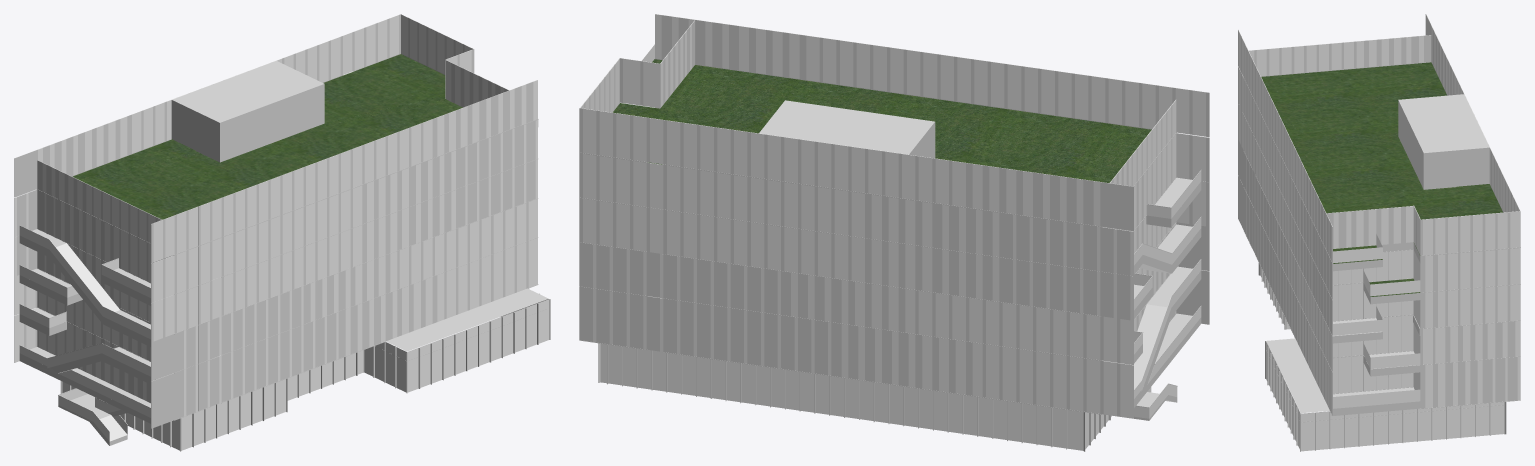
The model's file is levelBuild.glb.
3 views of the same model, side by side, from view 1: azimuth 30°, elevation 25°; view 2: azimuth 150°, elevation 25°; view 3: azimuth 270°, elevation 25° (orthographic). The views are drawn at different scales.
Parts seen in each view (by area): view 1: b4_boli, b4_qiang, b4_gouzaowu, b4_caoping, b4_boli2, b4_geshan, b4_langan; view 2: b4_boli, b4_qiang, b4_caoping, b4_gouzaowu, b4_boli2, b4_geshan, b4_langan; view 3: b4_boli, b4_qiang, b4_caoping, b4_gouzaowu, b4_geshan.
Boxes of the visible parts, bbox=[...] form: b4_boli: bbox=[14, 14, 548, 450]; b4_qiang: bbox=[14, 14, 535, 428]; b4_gouzaowu: bbox=[19, 53, 548, 445]; b4_caoping: bbox=[72, 54, 462, 219]; b4_boli2: bbox=[19, 226, 150, 441]; b4_geshan: bbox=[60, 288, 550, 451]; b4_langan: bbox=[19, 225, 150, 431]; b4_boli: bbox=[580, 14, 1205, 450]; b4_qiang: bbox=[579, 15, 1209, 416]; b4_caoping: bbox=[613, 59, 1151, 182]; b4_gouzaowu: bbox=[579, 58, 1201, 420]; b4_boli2: bbox=[1134, 171, 1201, 418]; b4_geshan: bbox=[598, 343, 1110, 451]; b4_langan: bbox=[1134, 170, 1201, 407]; b4_boli: bbox=[1238, 26, 1520, 451]; b4_qiang: bbox=[1238, 14, 1520, 410]; b4_caoping: bbox=[1261, 62, 1502, 296]; b4_gouzaowu: bbox=[1243, 62, 1520, 422]; b4_geshan: bbox=[1258, 249, 1506, 451].
Size of the model in its own units: 59.51 by 29.53 by 33.32.
5 materials, 1 textured.
